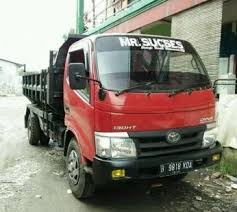plate: (158, 159, 192, 176)
